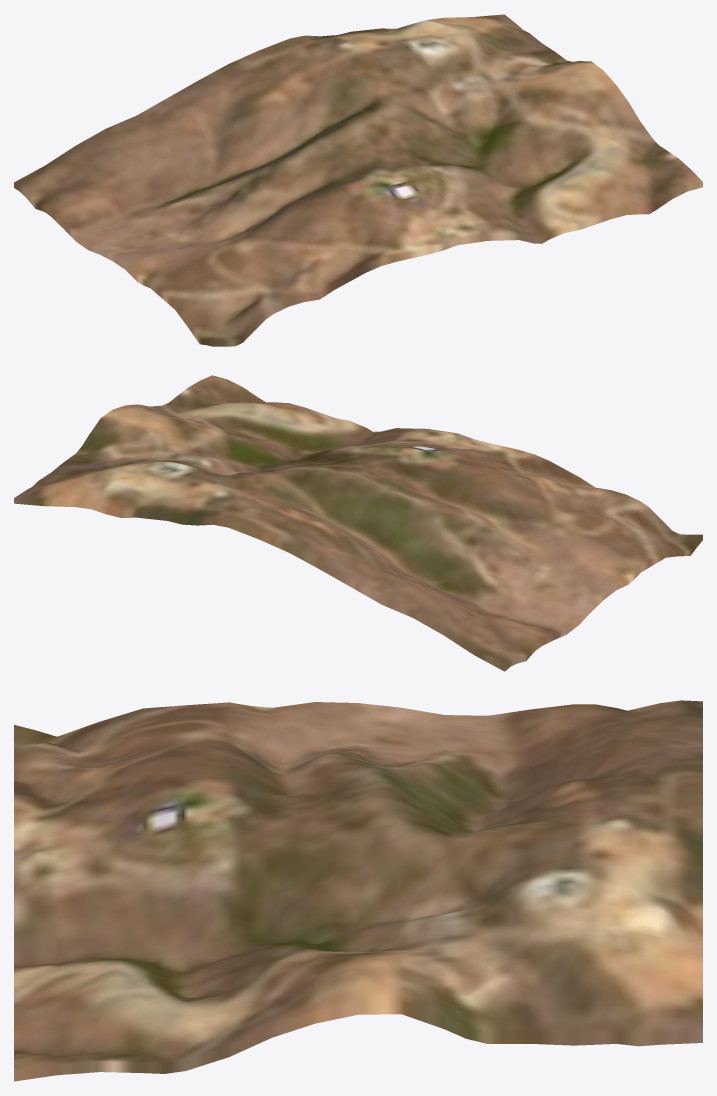
File: terrain_r1_c3_lod2.glb
3 renders of one model, top to bottom at view 1: azimuth 30°, elevation 25°; view 2: azimuth 150°, elevation 25°; view 3: azimuth 270°, elevation 25°, orthographic. The views are drawn at different scales.
Visible parts, largest first — view 1: terrain_r1_c3_lod2; view 2: terrain_r1_c3_lod2; view 3: terrain_r1_c3_lod2.
Part boxes in pixels (box(x1,y1,x2,y2)): terrain_r1_c3_lod2: box(14, 14, 702, 346); terrain_r1_c3_lod2: box(14, 375, 702, 671); terrain_r1_c3_lod2: box(14, 700, 702, 1081).
Size of the model in its own units: 1125 by 232 by 787.
Materials: 1 (1 with a texture image).
